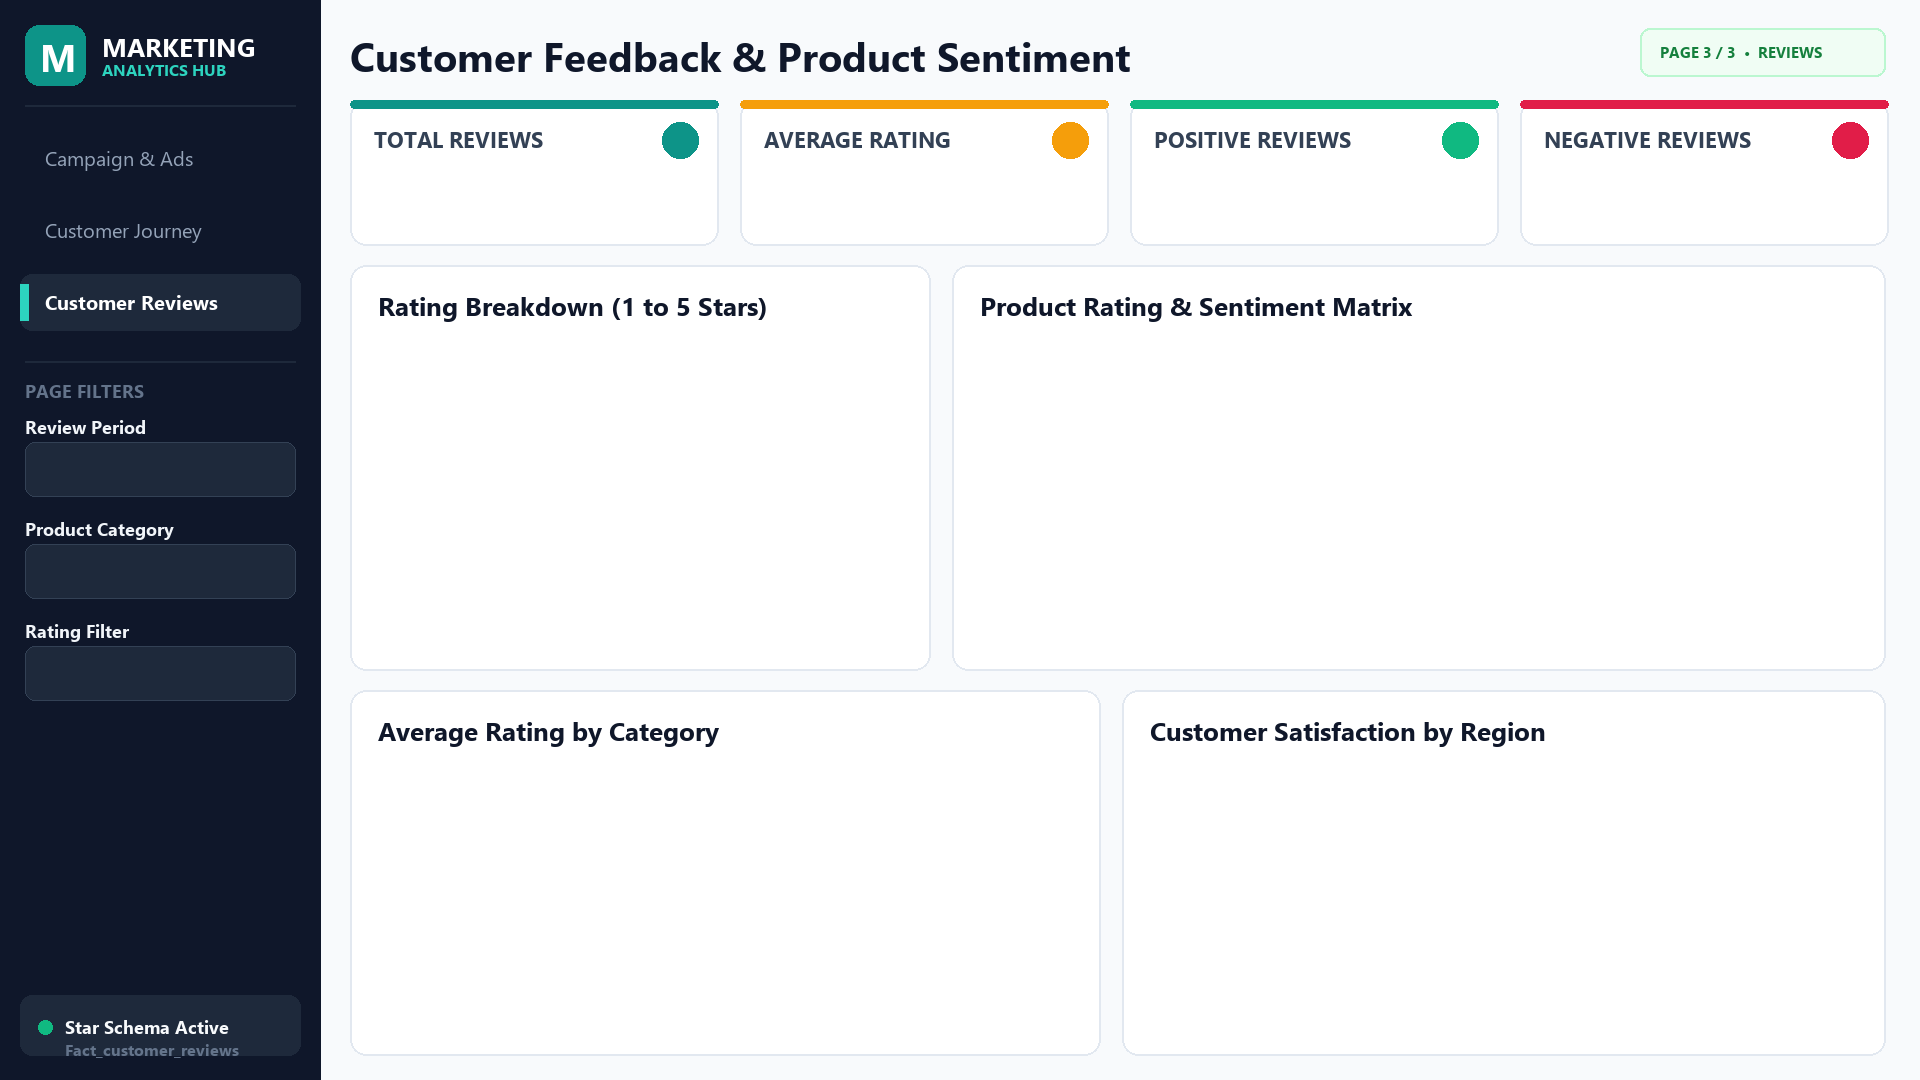

This screenshot's page, from the dashboard's own definition file:
{"tool":"powerbi","page":{"name":"Customer Feedback","canvas":[1920,1080],"ordinal":2},"visuals":[{"type":"cardVisual","fields":{"Data":["Key Measure.Total Reviews"]},"box":[370.9,146.4,282.5,107.5],"z":0},{"type":"cardVisual","fields":{"Data":["Key Measure.AVG Rating"]},"box":[763.7,146.4,282.5,107.5],"z":1000},{"type":"cardVisual","fields":{"Data":["Key Measure.Postive Reviews"]},"box":[1151.6,146.4,282.5,107.5],"z":2000},{"type":"cardVisual","fields":{"Data":["Key Measure.Negative Reviews"]},"box":[1542,146.4,282.5,107.5],"z":3000},{"type":"donutChart","fields":{"Y":["Key Measure.Postive Reviews","Key Measure.Negative Reviews","Key Measure.Neutral Reviews"]},"box":[387.5,315,517.5,337.5],"z":3001},{"type":"barChart","fields":{"Category":["Dim_products.Category"],"Y":["Key Measure.AVG Rating"]},"box":[347.5,732.5,742.5,327.5],"z":3002},{"type":"barChart","fields":{"Category":["Dim_customers.CountryCategory"],"Y":["Key Measure.AVG Rating"]},"box":[1152.5,732.5,742.5,327.5],"z":3003},{"type":"tableEx","fields":{"Values":["Dim_products.ProductName","Dim_products.Category","Key Measure.AVG Rating","Key Measure.Total Reviews","Key Measure.Positive Reviews %"]},"box":[990.6,314.7,658.8,336.7],"z":3004},{"type":"slicer","fields":{"Values":["Dim_products.PriceCategory"]},"box":[27.5,525,267.5,55],"z":3005},{"type":"slicer","fields":{"Values":["Fact_customer_reviews.Rating"]},"box":[30,627.5,267.5,55],"z":3006},{"type":"slicer","fields":{"Values":["dCalendar.Date.Variation.Date Hierarchy.Year","dCalendar.Month Name"]},"box":[27.5,427.5,267.5,67.5],"z":3007},{"type":"actionButton","box":[26.8,190.3,268.4,53.7],"z":3008},{"type":"actionButton","box":[29.3,119.6,268.4,51.2],"z":3009}]}

Visuals, with their boxes on the page's 1920x1080 design canvas (x1, y1, x2, y2). These are canvas units, not pixel positions in the 1920x1080 screenshot, which may show the page scaled, cropped or inside an application window:
cardVisual - Key Measure.Total Reviews: (left=371, top=146, right=653, bottom=254)
cardVisual - Key Measure.AVG Rating: (left=764, top=146, right=1046, bottom=254)
cardVisual - Key Measure.Postive Reviews: (left=1152, top=146, right=1434, bottom=254)
cardVisual - Key Measure.Negative Reviews: (left=1542, top=146, right=1824, bottom=254)
donutChart - Key Measure.Postive Reviews x Key Measure.Negative Reviews: (left=388, top=315, right=905, bottom=652)
barChart - Dim_products.Category x Key Measure.AVG Rating: (left=348, top=732, right=1090, bottom=1060)
barChart - Dim_customers.CountryCategory x Key Measure.AVG Rating: (left=1152, top=732, right=1895, bottom=1060)
tableEx - Dim_products.ProductName x Dim_products.Category: (left=991, top=315, right=1649, bottom=651)
slicer - Dim_products.PriceCategory: (left=28, top=525, right=295, bottom=580)
slicer - Fact_customer_reviews.Rating: (left=30, top=628, right=298, bottom=682)
slicer - dCalendar.Date.Variation.Date Hierarchy.Year x dCalendar.Month Name: (left=28, top=428, right=295, bottom=495)
actionButton: (left=27, top=190, right=295, bottom=244)
actionButton: (left=29, top=120, right=298, bottom=171)
